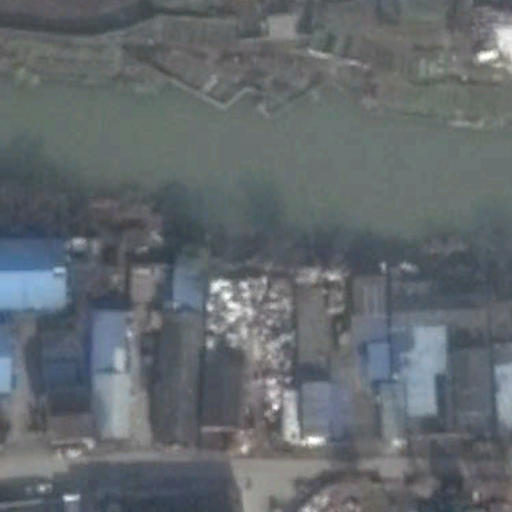msw: (206, 276, 297, 420)
